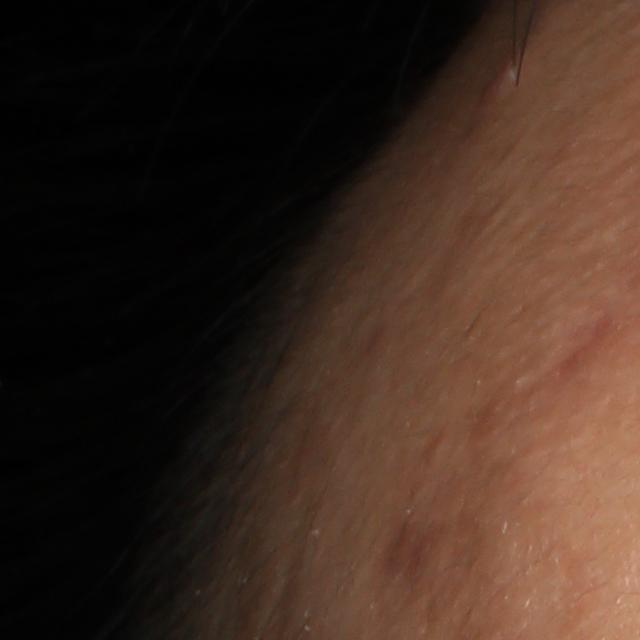atrophic_scar: (528, 310, 618, 394)
papule: (470, 41, 535, 105)
